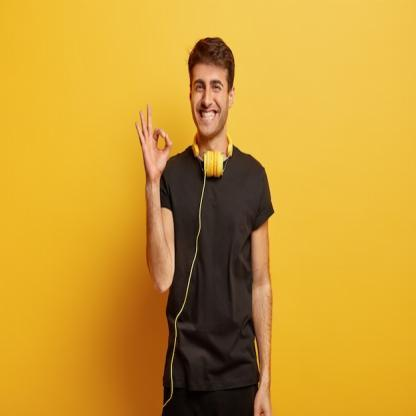ok: (134, 98, 173, 188)
